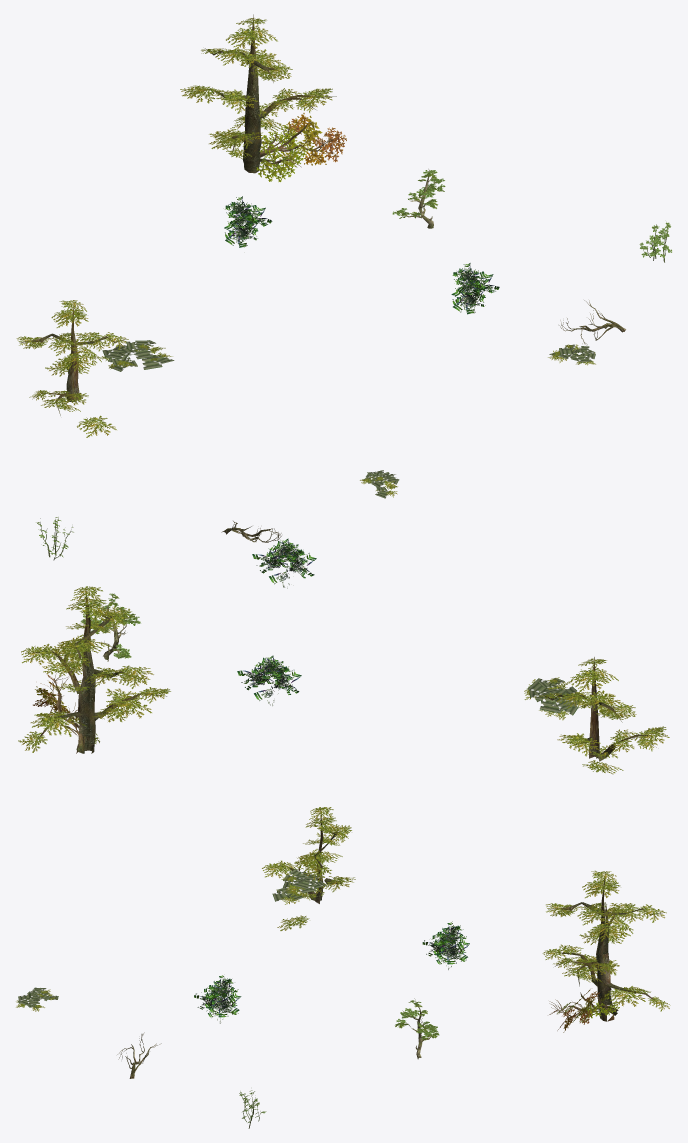
File: S_Tree_Green028_A.FBX
3 views of the same model, one above another, from view 1: azimuth 30°, elevation 25°; view 2: azimuth 150°, elevation 25°; view 3: azimuth 270°, elevation 25° (orthographic). The views are drawn at different scales.
Parts seen in each view (by area): view 1: S_Tree_Green028_002, S_Tree_Green028_001, S_Tree_Green035_001, S_Tree_Green020_001, S_Tree_Green051_002, S_Tree_Green051_001, S_Tree_Green048_001, S_Tree_Green020_002; view 2: S_Tree_Green028_002, S_Tree_Green028_001, S_Tree_Green020_001, S_Tree_Green051_001, S_Tree_Green051_002, S_Tree_Green035_001, S_Tree_Green048_001, S_Tree_Green020_002; view 3: S_Tree_Green028_002, S_Tree_Green028_001, S_Tree_Green051_001, S_Tree_Green051_002, S_Tree_Green020_001, S_Tree_Green035_001, S_Tree_Green048_001, S_Tree_Green020_002.
Part boxes in pixels (x1=…): S_Tree_Green028_002: x1=180, y1=14, x2=336, y2=173; S_Tree_Green028_001: x1=16, y1=300, x2=128, y2=437; S_Tree_Green035_001: x1=243, y1=113, x2=346, y2=181; S_Tree_Green020_001: x1=99, y1=340, x2=174, y2=371; S_Tree_Green051_002: x1=451, y1=263, x2=499, y2=314; S_Tree_Green051_001: x1=224, y1=196, x2=272, y2=247; S_Tree_Green048_001: x1=392, y1=169, x2=445, y2=228; S_Tree_Green020_002: x1=548, y1=344, x2=595, y2=365; S_Tree_Green028_002: x1=18, y1=586, x2=170, y2=753; S_Tree_Green028_001: x1=539, y1=657, x2=669, y2=774; S_Tree_Green020_001: x1=524, y1=677, x2=589, y2=720; S_Tree_Green051_001: x1=237, y1=655, x2=301, y2=705; S_Tree_Green051_002: x1=252, y1=538, x2=316, y2=588; S_Tree_Green035_001: x1=33, y1=673, x2=104, y2=753; S_Tree_Green048_001: x1=80, y1=593, x2=140, y2=661; S_Tree_Green020_002: x1=360, y1=470, x2=399, y2=498; S_Tree_Green028_002: x1=542, y1=870, x2=670, y2=1021; S_Tree_Green028_001: x1=262, y1=807, x2=355, y2=930; S_Tree_Green051_001: x1=422, y1=921, x2=469, y2=969; S_Tree_Green051_002: x1=194, y1=975, x2=241, y2=1023; S_Tree_Green020_001: x1=272, y1=868, x2=327, y2=904; S_Tree_Green035_001: x1=549, y1=989, x2=619, y2=1032; S_Tree_Green048_001: x1=395, y1=998, x2=439, y2=1059; S_Tree_Green020_002: x1=16, y1=987, x2=58, y2=1011.
Size of the model in its own units: 8812 by 8631 by 2970.
